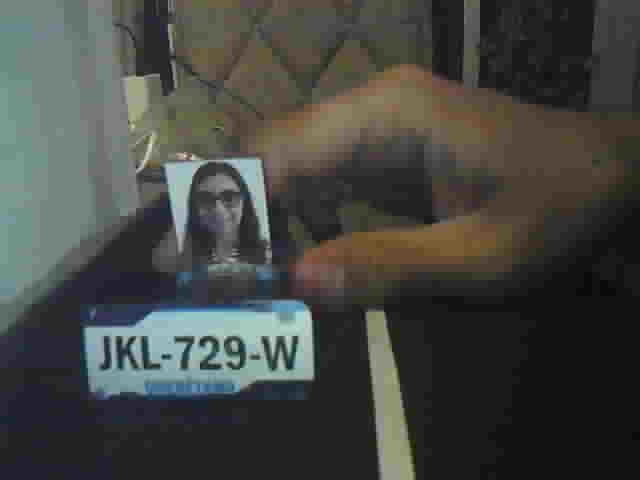PLACA: (79, 298, 320, 401)
ROSTRO: (177, 160, 273, 267)
